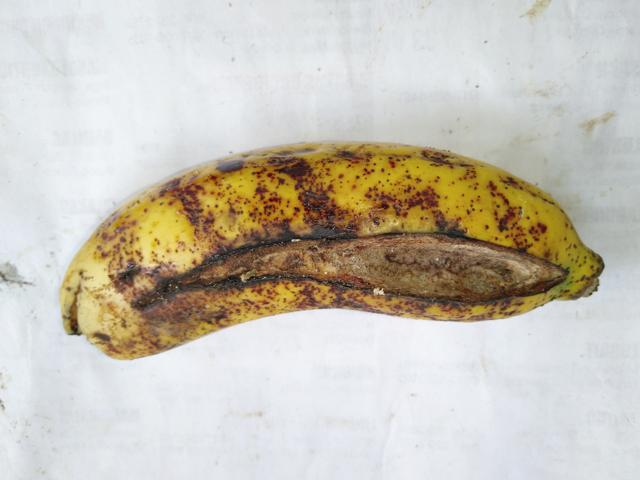rotten: (106, 195, 579, 354)
